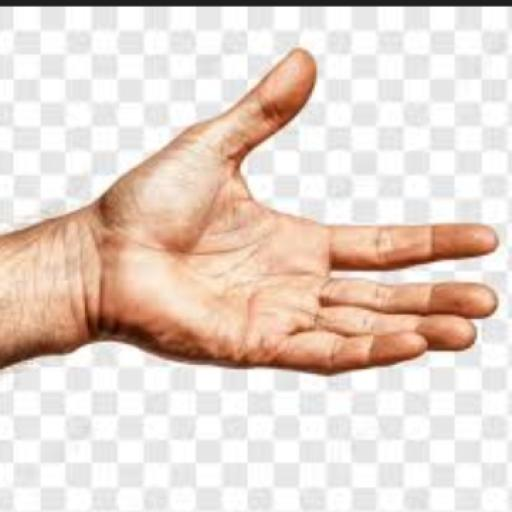Open_Palm: (15, 21, 512, 456)
